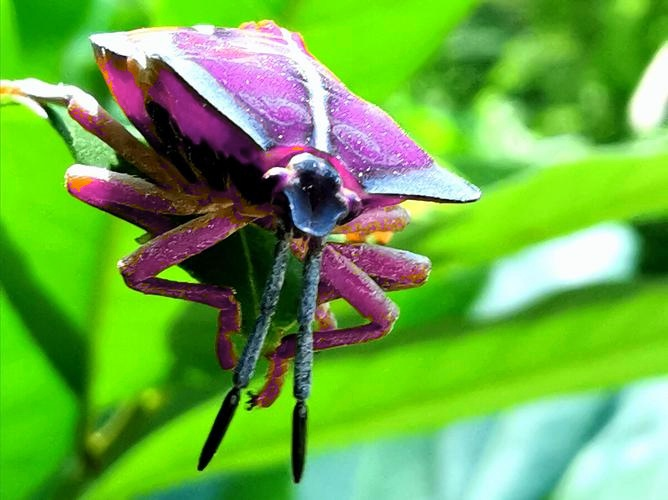Stink_Bug: (85, 7, 409, 350)
